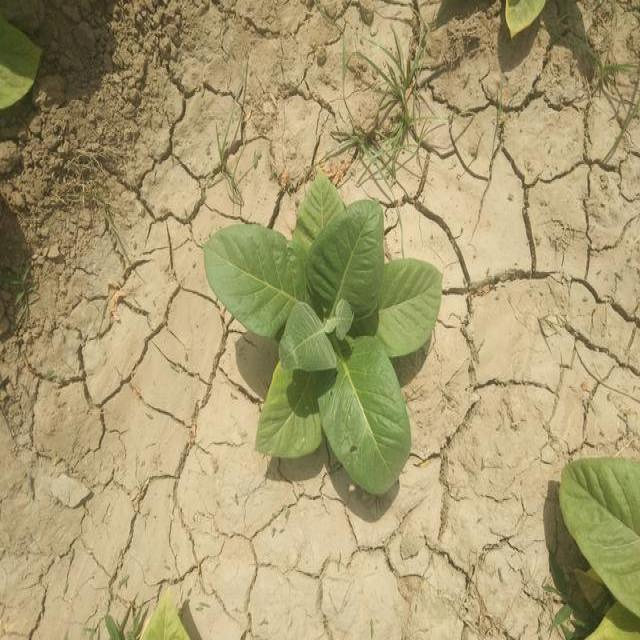crop: (220, 188, 438, 494), (558, 461, 639, 640), (0, 27, 43, 116), (109, 597, 194, 640), (496, 0, 554, 27)
